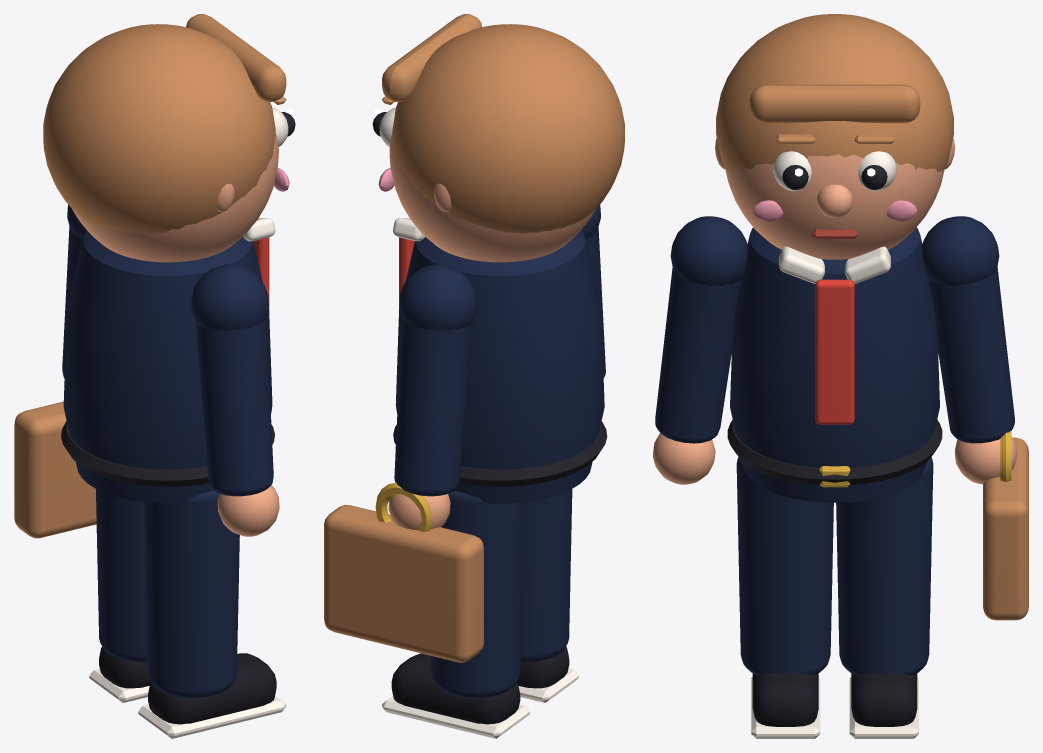
Rendered from ped_business.glb.
3 views of the same model, side by side, from view 1: azimuth 30°, elevation 25°; view 2: azimuth 150°, elevation 25°; view 3: azimuth 270°, elevation 25° (orthographic).
Parts seen in each view (by area): view 1: ped_business; view 2: ped_business; view 3: ped_business.
Part boxes in pixels (<box>): ped_business: <box>14,14,295,738</box>; ped_business: <box>324,14,624,738</box>; ped_business: <box>653,14,1028,738</box>.
Size of the model in its own units: 0.3843 by 1.13 by 0.5718.
Materials: 1 (1 with a texture image).
